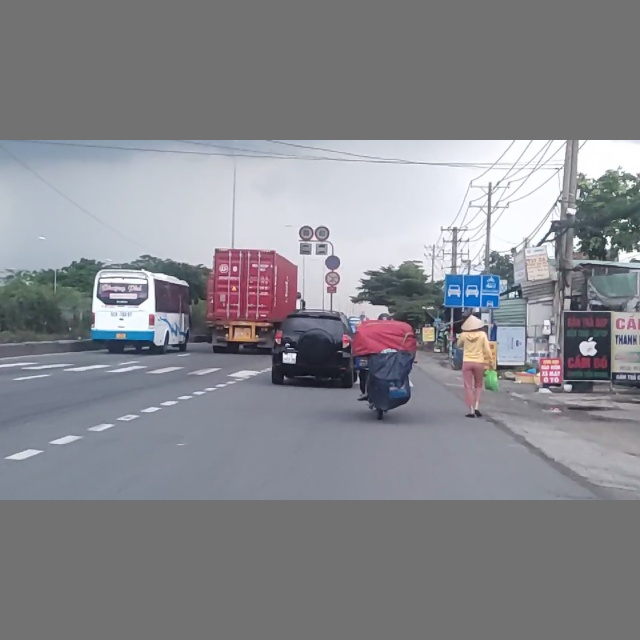P.111: (325, 272, 341, 285)
P.127*60: (314, 225, 331, 241)
P.127*80: (299, 225, 313, 241)
P.130: (325, 255, 341, 270)
R.415a: (445, 274, 499, 307)
